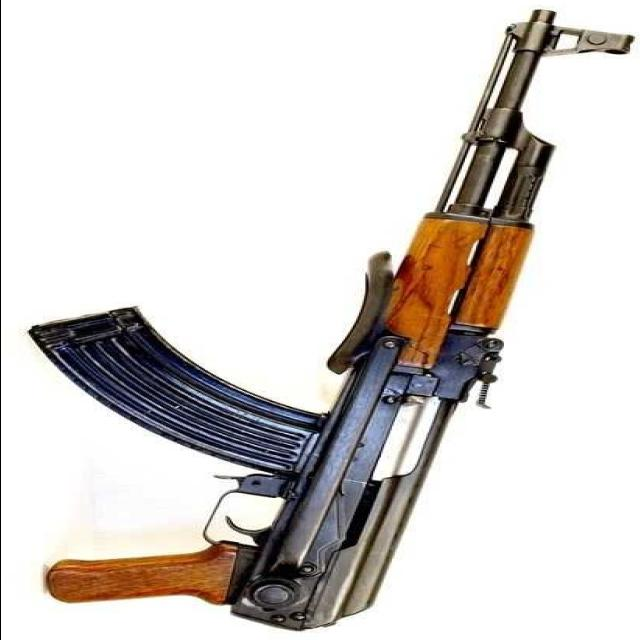heavyweapon: (37, 8, 629, 633)
